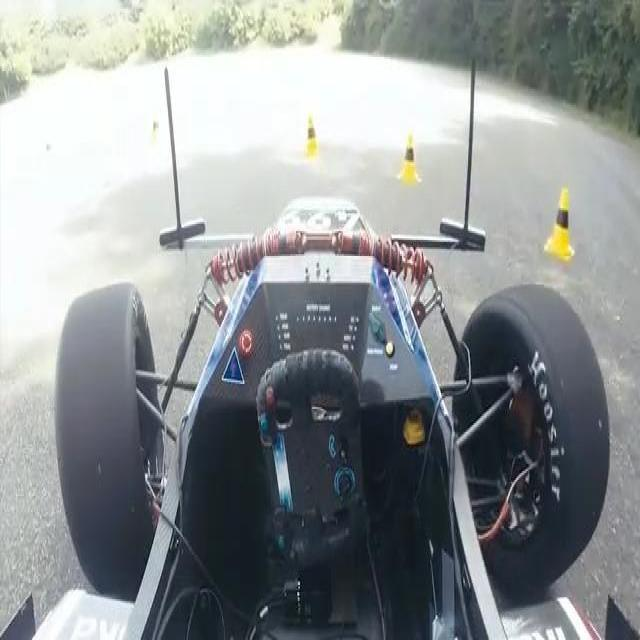yellow_cone: (539, 183, 576, 260), (392, 132, 421, 188), (301, 112, 322, 159), (148, 114, 164, 158)
